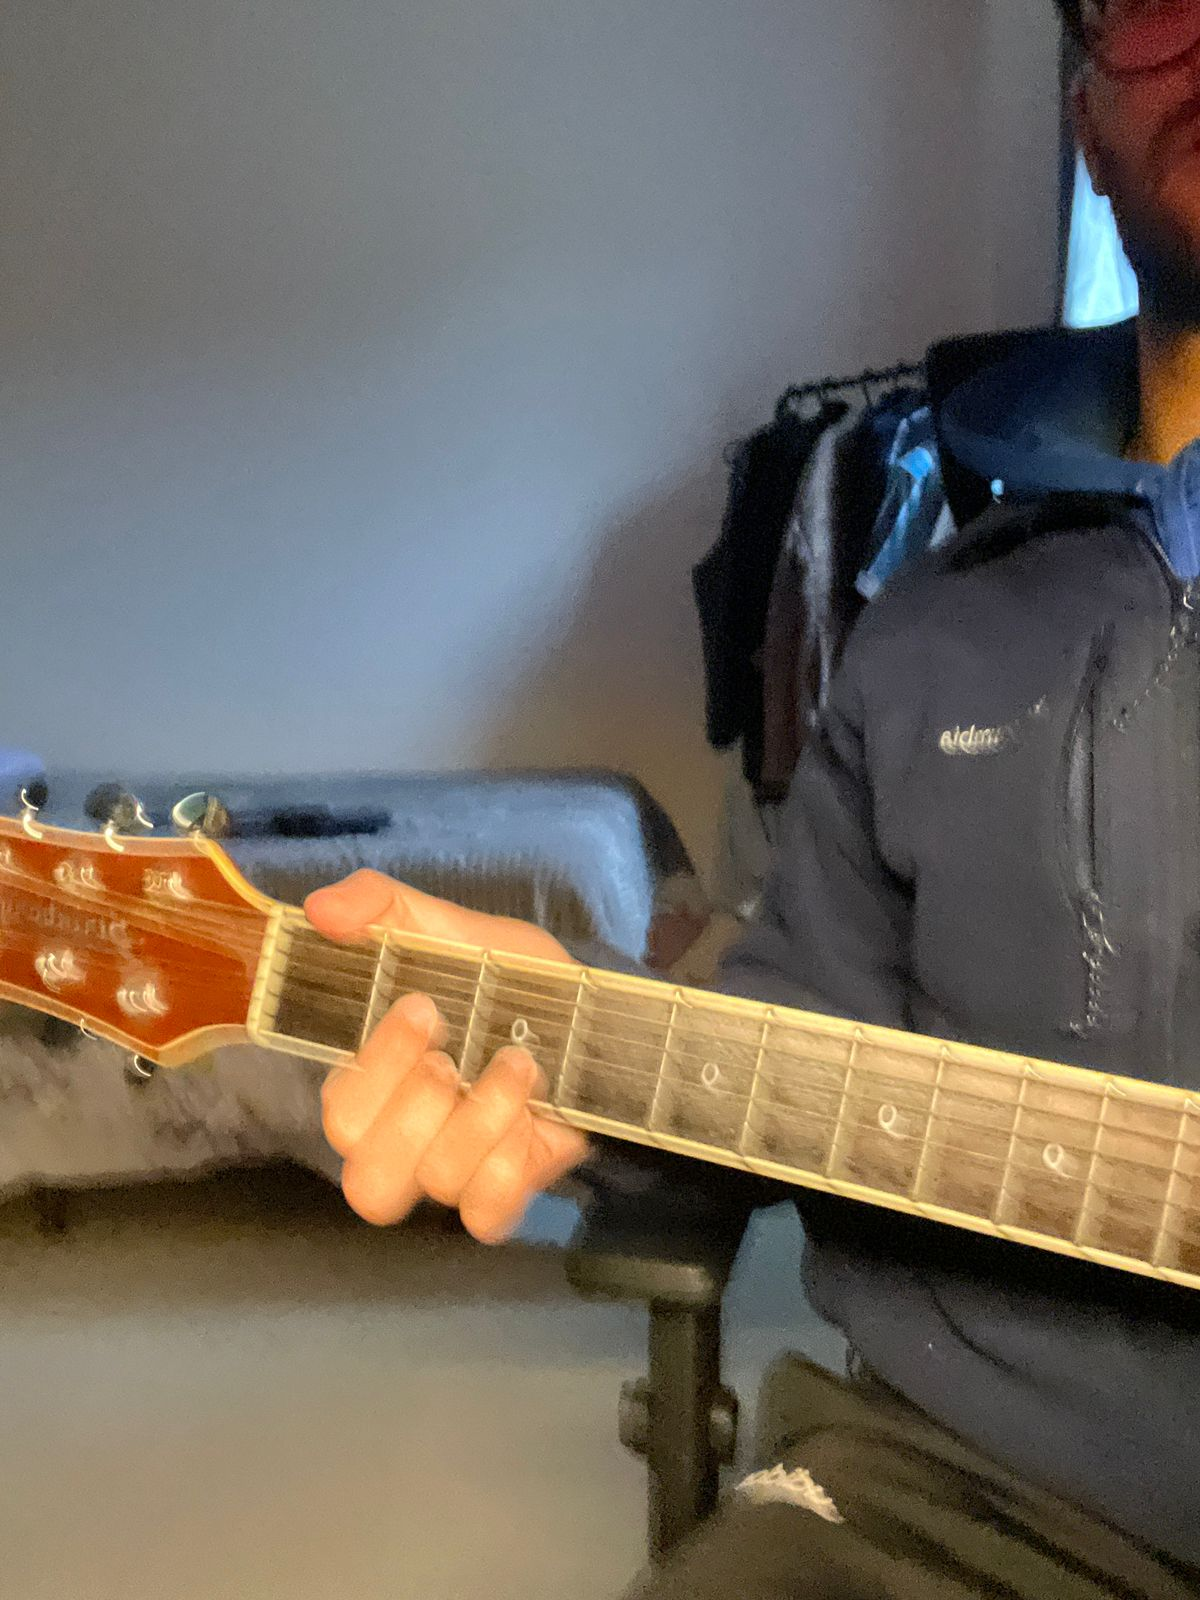re: (373, 944, 565, 1117)
violao: (4, 769, 1200, 1332)
